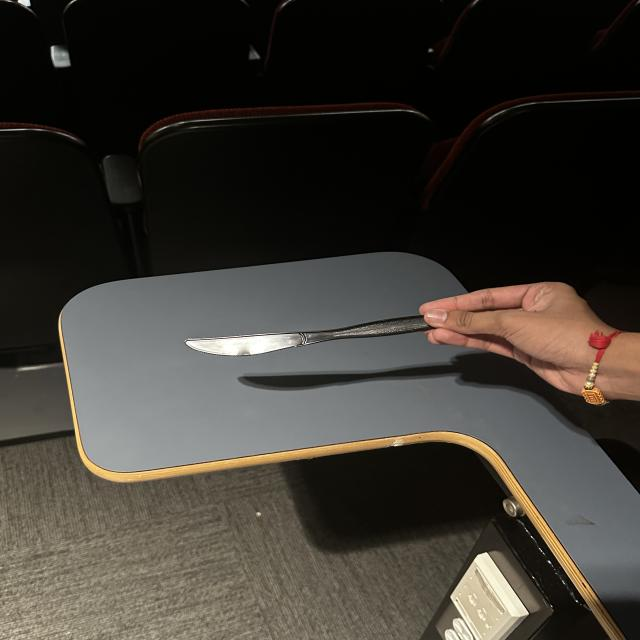knife: (113, 297, 525, 368)
